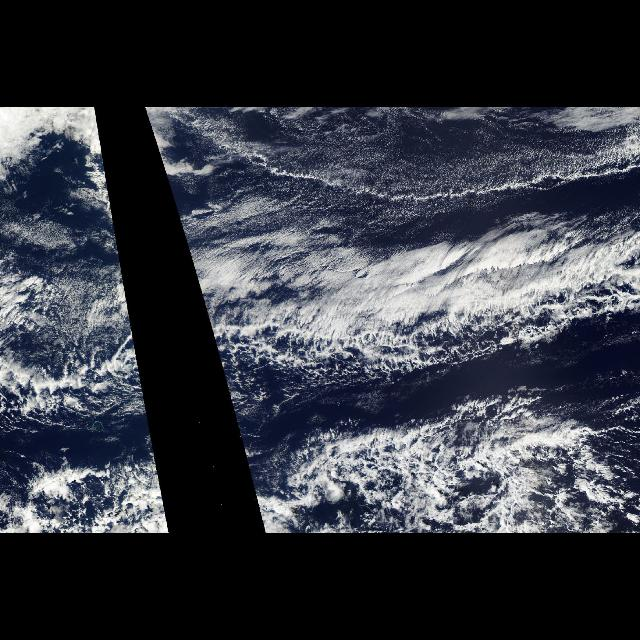Fish: (186, 226, 640, 534), (0, 241, 150, 431)
Gravel: (2, 263, 170, 533)
Sugar: (198, 111, 640, 222)
